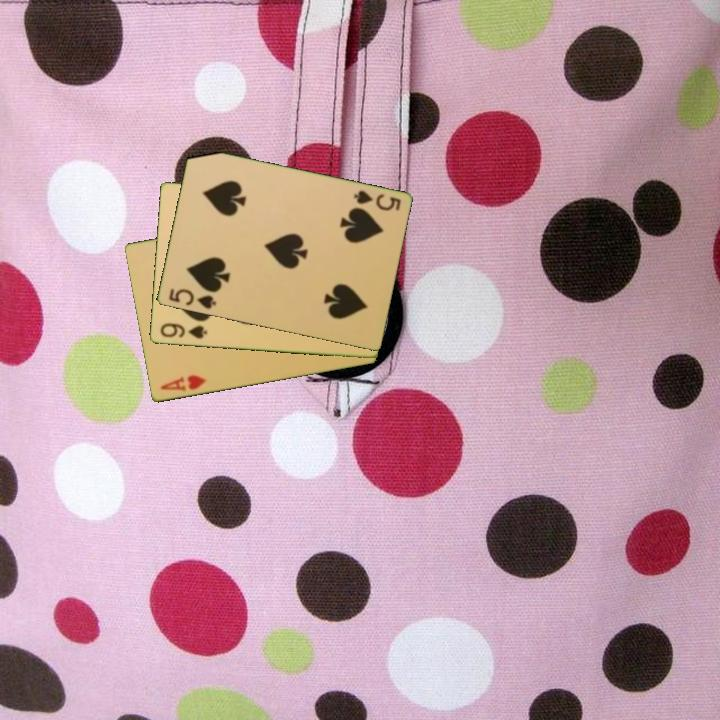5s: (165, 285, 219, 312), (350, 187, 403, 214)
9s: (157, 320, 210, 342)
Ah: (156, 372, 209, 394)
